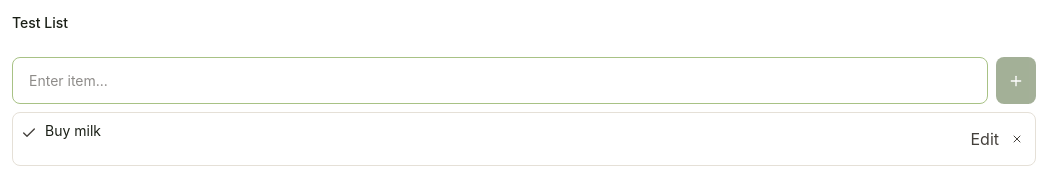
Test: StructuredListInput Accessibility › provides accessible name for edit input
Step 1. Click the button with aria-label "Edit Buy milk" → {"x": 985, "y": 139}, box x1=966 y1=121 x2=1003 y2=157
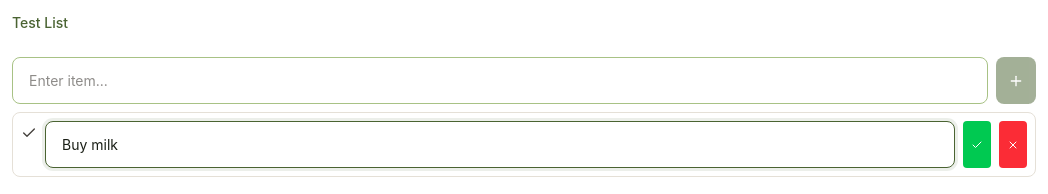
Result: the field named "Edit item" holds "Buy milk" at x1=45 y1=121 x2=955 y2=168
